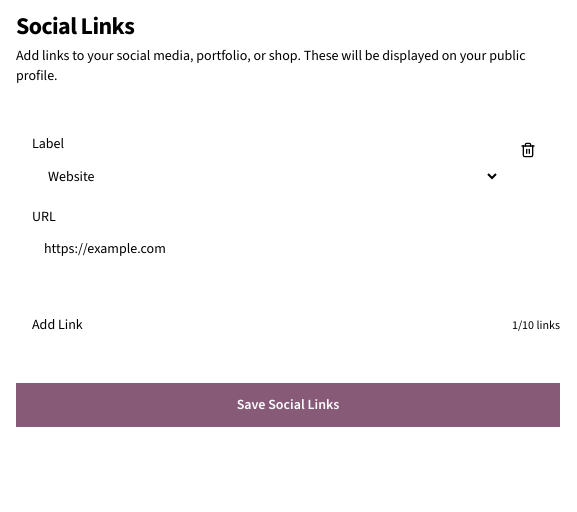
SocialLinksForm › form submission › shows success message after successful save
Step 1. Click the button "Save Social Links" → {"x": 288, "y": 405}, box [16,383,560,427]
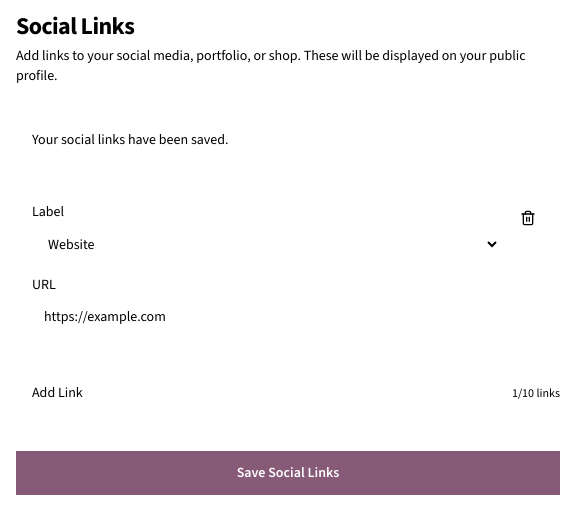
Expected: the text "Your social links have been saved." is shown, [32,130,228,149]
